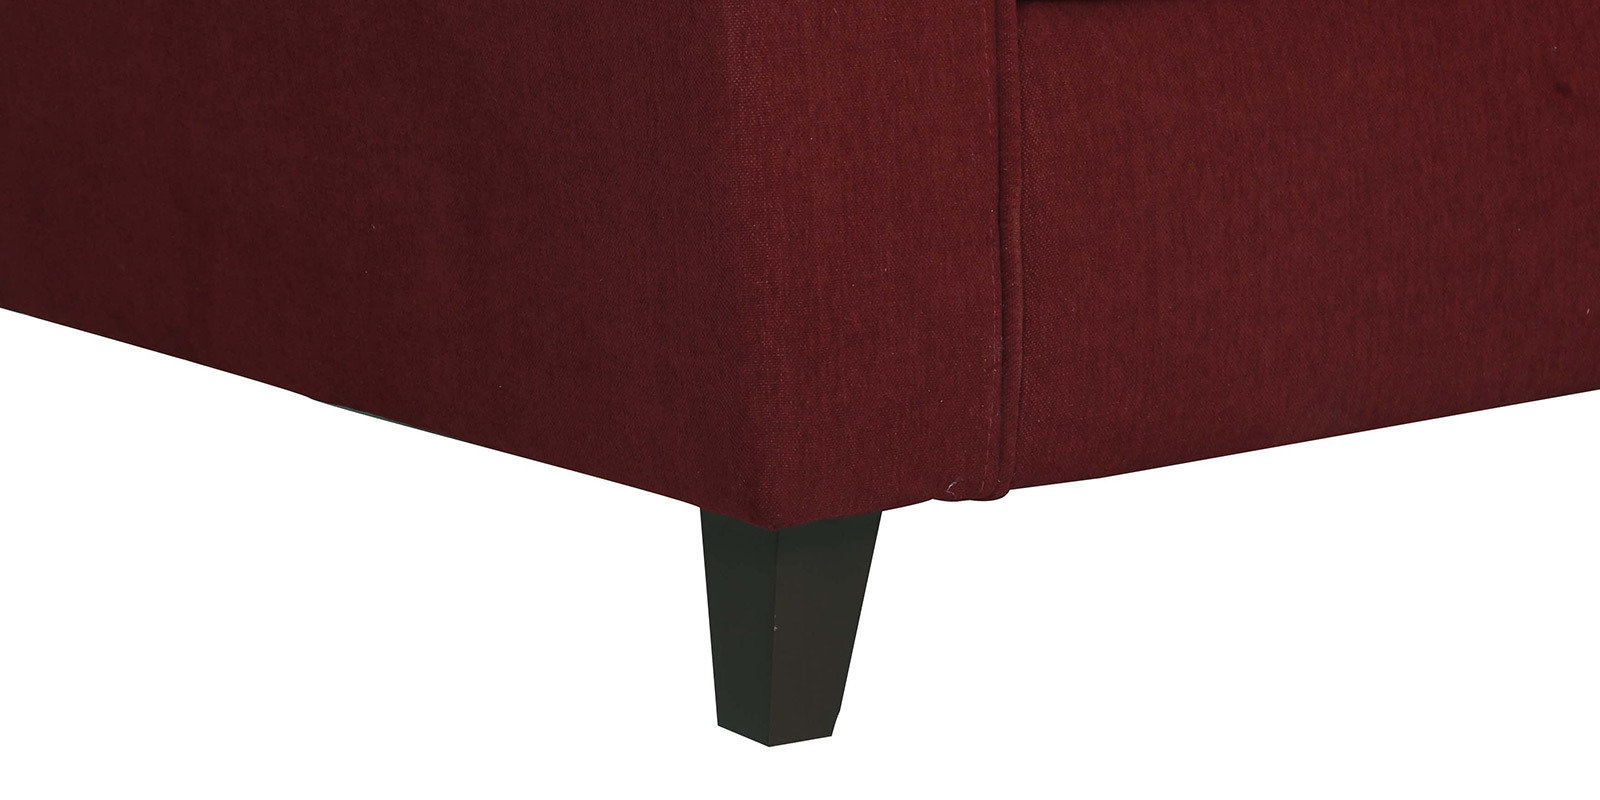Miranda Three Seater Sofa in Garnet Red Colour by CasaCraft: (1, 1, 1600, 747)
